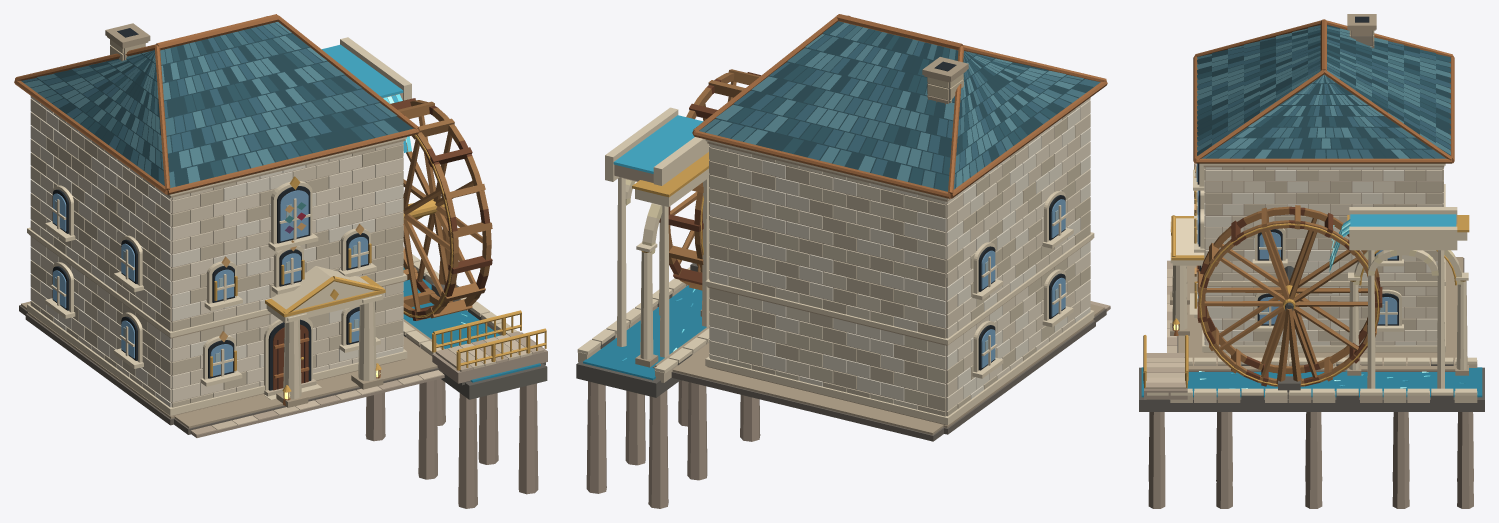
File: watermill-nivel-8.glb
3 views of the same model, side by side, from view 1: azimuth 30°, elevation 25°; view 2: azimuth 150°, elevation 25°; view 3: azimuth 270°, elevation 25° (orthographic). The views are drawn at different scales.
Visible parts, largest first — view 1: Moinho 08 #e6d7ba, Moinho 08 #e8dcc5, Moinho 08 #cec1a8, Moinho 08 #ded1b9, Moinho 08 #294952, Moinho 08 #eae1ce, Moinho 08 #ae9d8b, Aros e pás 1 #9f7145.007, Moinho 08 #54818b, Moinho 08 #a76e42, Moinho 08 #46717c, Moinho 08 #3b6472 (+16 smaller); view 2: Moinho 08 #cec1a8, Moinho 08 #eae1ce, Moinho 08 #e6d7ba, Moinho 08 #e8dcc5, Moinho 08 #ded1b9, Moinho 08 #294952, Moinho 08 #ae9d8b, Moinho 08 #54818b, Moinho 08 #b4a38a, Moinho 08 #3b6472, Moinho 08 #a76e42, Moinho 08 #46717c (+12 smaller); view 3: Moinho 08 #e6d7ba, Moinho 08 #294952, Aros e pás 1 #9f7145.007, Moinho 08 #ae9d8b, Moinho 08 #cec1a8, Moinho 08 #3b6472, Moinho 08 #54818b, Moinho 08 #e8dcc5, Moinho 08 #b4a38a, Moinho 08 #a76e42, Moinho 08 #ded1b9, Moinho 08 #eae1ce (+16 smaller).
Boxes of the visible parts, x1,y1,x2,y2 form: Moinho 08 #e6d7ba: (27, 37, 517, 415); Moinho 08 #e8dcc5: (30, 96, 403, 402); Moinho 08 #cec1a8: (30, 119, 403, 407); Moinho 08 #ded1b9: (30, 98, 403, 397); Moinho 08 #294952: (24, 23, 413, 186); Moinho 08 #eae1ce: (30, 110, 403, 407); Moinho 08 #ae9d8b: (190, 332, 547, 508); Aros e pás 1 #9f7145.007: (398, 100, 492, 319); Moinho 08 #54818b: (24, 22, 326, 183); Moinho 08 #a76e42: (14, 14, 419, 405); Moinho 08 #46717c: (37, 22, 398, 187); Moinho 08 #3b6472: (21, 25, 389, 185); Moinho 08 #cec1a8: (709, 109, 1090, 416); Moinho 08 #eae1ce: (709, 107, 1090, 400); Moinho 08 #e6d7ba: (577, 107, 1094, 424); Moinho 08 #e8dcc5: (709, 97, 1090, 410); Moinho 08 #ded1b9: (709, 114, 1090, 406); Moinho 08 #294952: (705, 23, 1093, 188); Moinho 08 #ae9d8b: (586, 306, 1110, 508); Moinho 08 #54818b: (706, 22, 1074, 187); Moinho 08 #b4a38a: (635, 57, 1104, 434); Moinho 08 #3b6472: (718, 24, 1100, 189); Moinho 08 #a76e42: (692, 14, 1107, 198); Moinho 08 #46717c: (699, 26, 1085, 187); Moinho 08 #e6d7ba: (1147, 163, 1476, 395); Moinho 08 #294952: (1197, 25, 1450, 158); Aros e pás 1 #9f7145.007: (1197, 205, 1380, 386); Moinho 08 #ae9d8b: (1144, 389, 1473, 508); Moinho 08 #cec1a8: (1204, 167, 1443, 345); Moinho 08 #3b6472: (1197, 37, 1450, 158); Moinho 08 #54818b: (1197, 28, 1450, 158); Moinho 08 #e8dcc5: (1204, 167, 1443, 345); Moinho 08 #b4a38a: (1170, 14, 1468, 375); Moinho 08 #a76e42: (1172, 19, 1454, 335); Moinho 08 #ded1b9: (1204, 167, 1443, 345); Moinho 08 #eae1ce: (1204, 167, 1437, 345).
Bounding box in the file's own units: 9.75 × 11.66 × 9.77.
